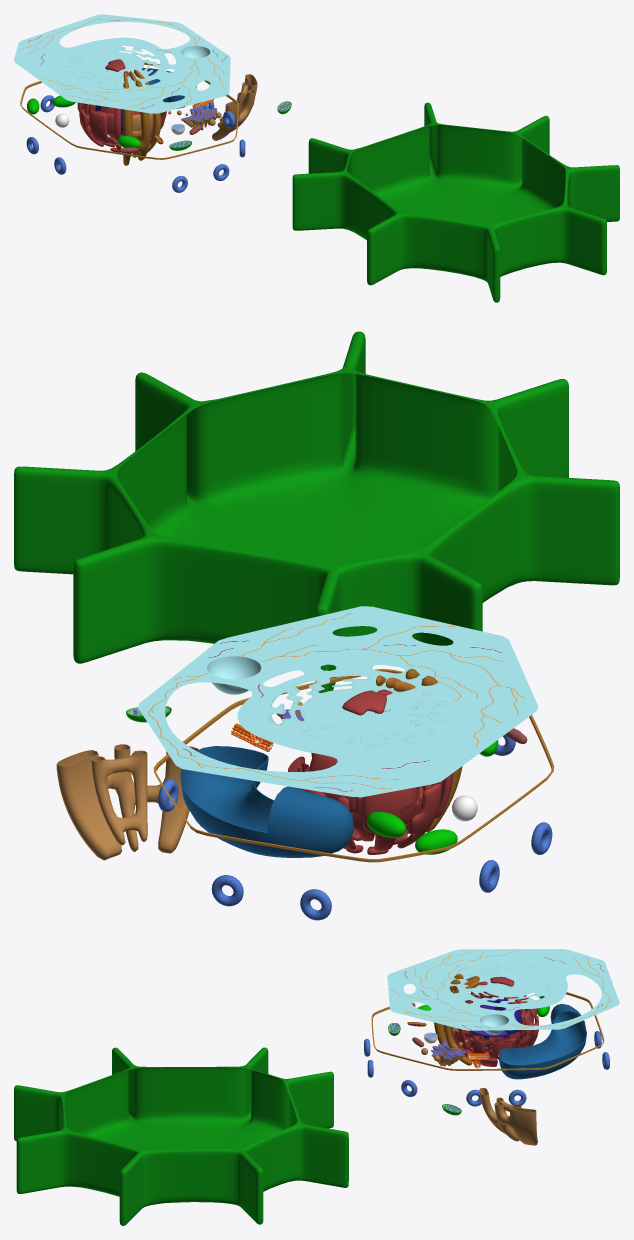
File: vacuole (1).glb
3 renders of one model, top to bottom at view 1: azimuth 30°, elevation 25°; view 2: azimuth 150°, elevation 25°; view 3: azimuth 270°, elevation 25°, orthographic. The views are drawn at different scales.
Visible parts, largest first — view 1: Box008, Object029_Material #2612_0, Object011_19 - Default_0, Bitki, Object014_14 - Default_0, Object028_07 - Default_0, Object015_15 - Default_0, Golgi cisimcigi002; view 2: Box008, Object029_Material #2612_0, Box021, Bitki, Object011_19 - Default_0, Object028_07 - Default_0, Box013; view 3: Box008, Object029_Material #2612_0, Box021, Bitki, Endoplazmik retikulum, Object011_19 - Default_0, Object028_07 - Default_0, Golgi cisimcigi002, Object015_15 - Default_0.
Part boxes in pixels (box(x1,y1,x2,y2)): Box008: box(292, 102, 619, 302); Object029_Material #2612_0: box(14, 14, 230, 113); Object011_19 - Default_0: box(77, 59, 153, 152); Bitki: box(132, 74, 257, 140); Object014_14 - Default_0: box(123, 80, 150, 165); Object028_07 - Default_0: box(20, 62, 238, 159); Object015_15 - Default_0: box(123, 69, 161, 157); Golgi cisimcigi002: box(181, 105, 217, 130); Box008: box(14, 331, 619, 692); Object029_Material #2612_0: box(138, 606, 538, 797); Box021: box(180, 746, 353, 857); Bitki: box(56, 744, 198, 860); Object011_19 - Default_0: box(305, 689, 453, 854); Object028_07 - Default_0: box(153, 669, 554, 862); Box013: box(366, 811, 406, 837); Box008: box(14, 1047, 348, 1225); Object029_Material #2612_0: box(387, 949, 619, 1034); Box021: box(498, 1004, 586, 1079); Bitki: box(450, 1027, 537, 1145); Endoplazmik retikulum: box(453, 1031, 529, 1066); Object011_19 - Default_0: box(457, 976, 538, 1058); Object028_07 - Default_0: box(371, 992, 604, 1070); Golgi cisimcigi002: box(431, 1041, 465, 1066); Object015_15 - Default_0: box(443, 976, 479, 1065).
Bounding box in the file's own units: 22.47 × 5.85 × 30.16.
25 materials, 6 textured.
